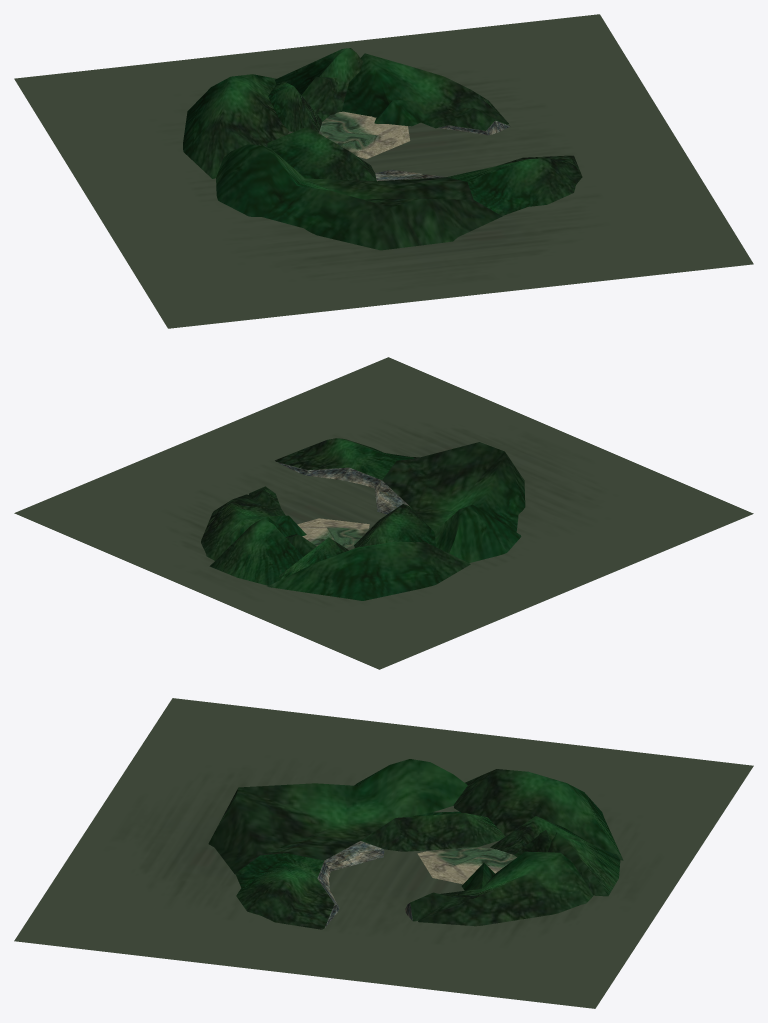
Rendered from pir_m_are_isl_tortuga_worldmap.fbx.
3 views of the same model, one above another, from view 1: azimuth 30°, elevation 25°; view 2: azimuth 150°, elevation 25°; view 3: azimuth 270°, elevation 25° (orthographic). The views are drawn at different scales.
Parts seen in each view (by area): view 1: sketchmark, hills, world_ground; view 2: sketchmark, hills, island_rocks_1, world_ground; view 3: sketchmark, hills, world_ground, island_rocks_1.
Part boxes in pixels (box(x1,y1,x2,y2)): sketchmark: box(14, 14, 753, 328); hills: box(183, 48, 582, 250); world_ground: box(320, 111, 410, 158); sketchmark: box(14, 357, 753, 669); hills: box(201, 438, 525, 600); island_rocks_1: box(277, 462, 409, 514); world_ground: box(297, 518, 369, 547); sketchmark: box(14, 698, 753, 1008); hills: box(208, 759, 623, 929); world_ground: box(417, 847, 516, 884); island_rocks_1: box(317, 841, 384, 927).
Size of the model in its own units: 93.37 by 7.59 by 93.92.
Materials: 2 (2 with a texture image).
